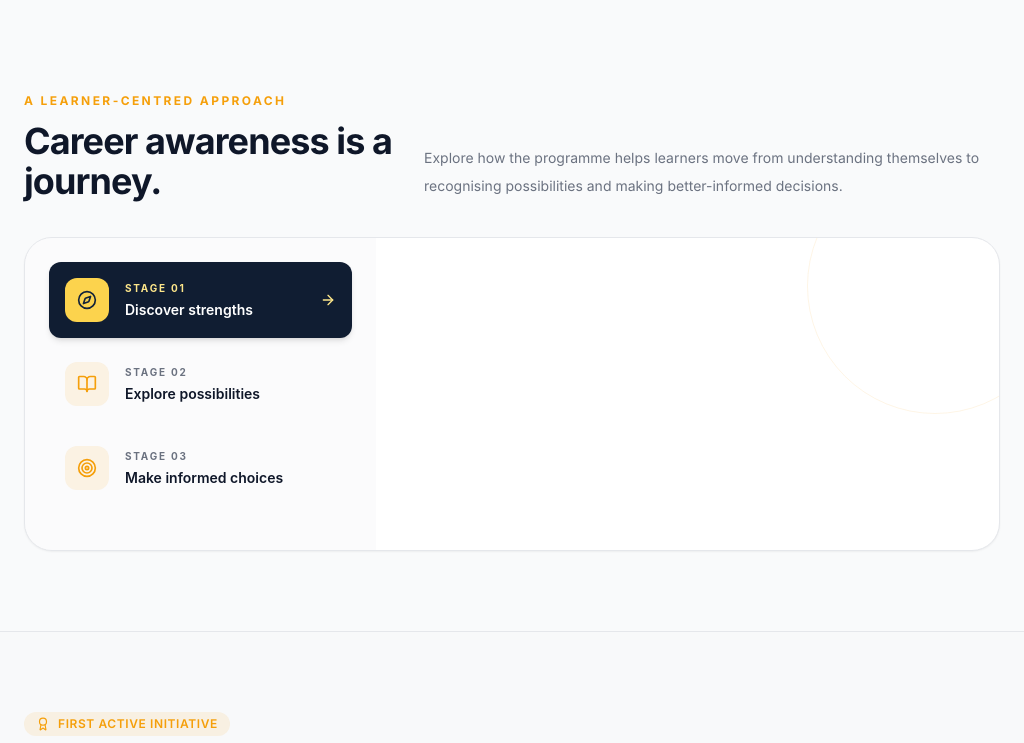
Test: Amineva Impact public routes › renders the dedicated Career Development and Exploration programme route
The width and height of the screenshot is (1024, 743).
Expected: the tab "Stage 01 Discover strengths" is shown, [49,262,352,338]
Click the tab "Stage 02 Explore possibilities". click: (200, 384)
box: [49,346,352,422]
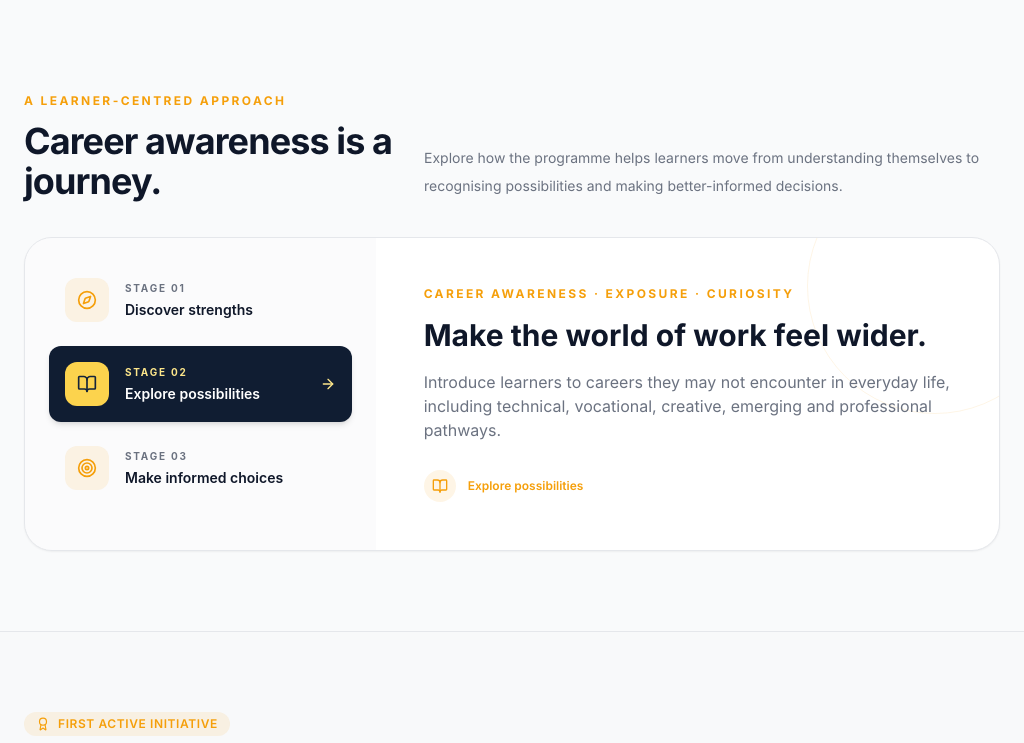
Result: the panel named "Explore possibilities" shows "including technical, vocational, creative, emerging and professional pathways." at [424,372,950,440]
